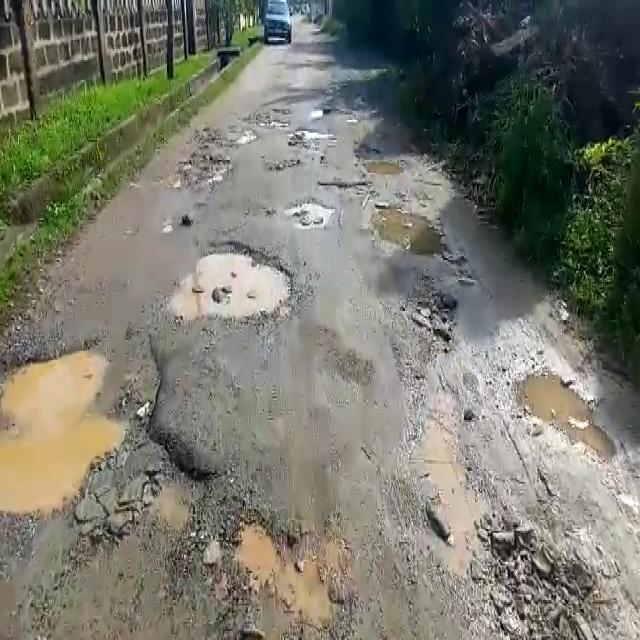Pothole: (3, 334, 219, 544), (198, 508, 354, 640), (471, 523, 606, 638), (506, 360, 625, 456), (170, 242, 304, 326), (371, 207, 451, 261), (396, 288, 456, 357), (168, 155, 234, 194), (285, 197, 332, 230), (316, 177, 380, 194)
